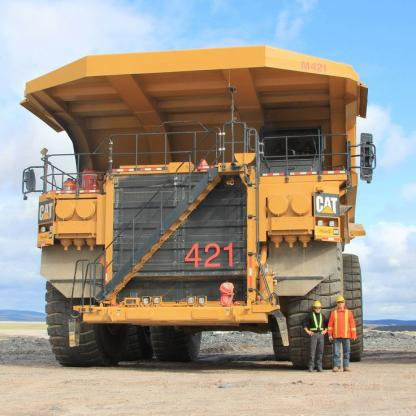dump_truck: (19, 41, 372, 374)
person: (302, 296, 330, 377), (328, 290, 355, 373)
